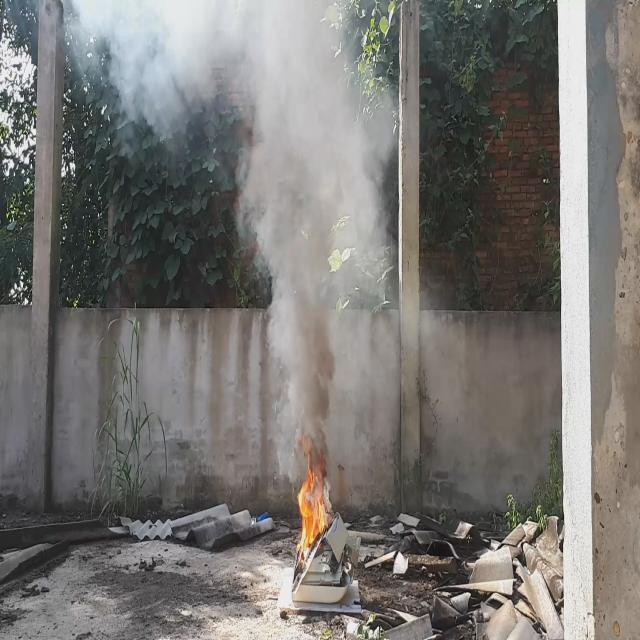Fire: (297, 420, 331, 563)
Smoke: (56, 0, 404, 462)
